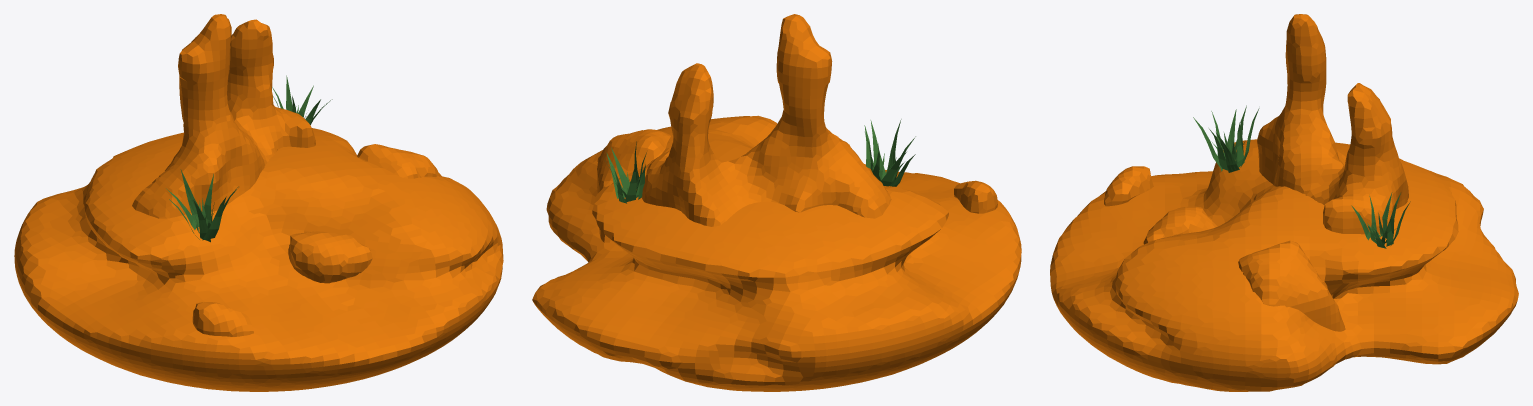
The model's file is desert1.glb.
The picture shows the model from 3 angles, left to right: view 1: azimuth 30°, elevation 25°; view 2: azimuth 150°, elevation 25°; view 3: azimuth 270°, elevation 25°; orthographic projection. The views are drawn at different scales.
Visible parts, largest first — view 1: Plane.077; view 2: Plane.077; view 3: Plane.077.
Part boxes in pixels (box(x1,y1,x2,y2)): Plane.077: box(14, 14, 503, 391); Plane.077: box(532, 14, 1021, 391); Plane.077: box(1050, 14, 1518, 391).
Bounding box in the file's own units: 8.15 × 6.03 × 8.01.
